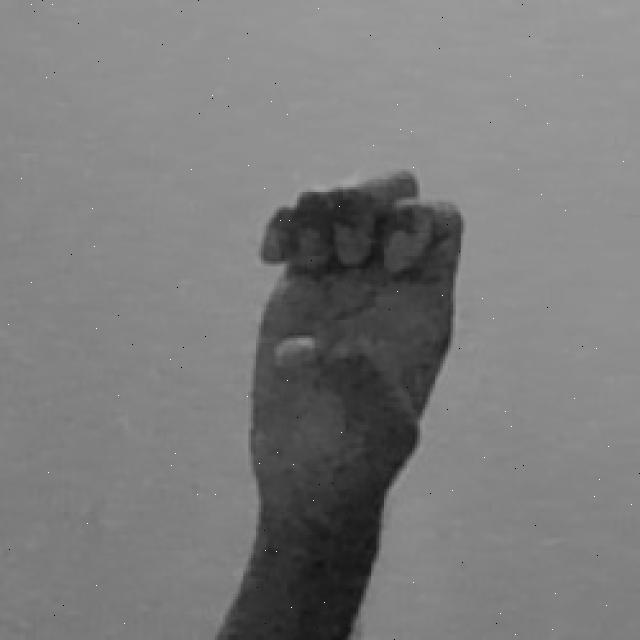E: (215, 168, 465, 640)
